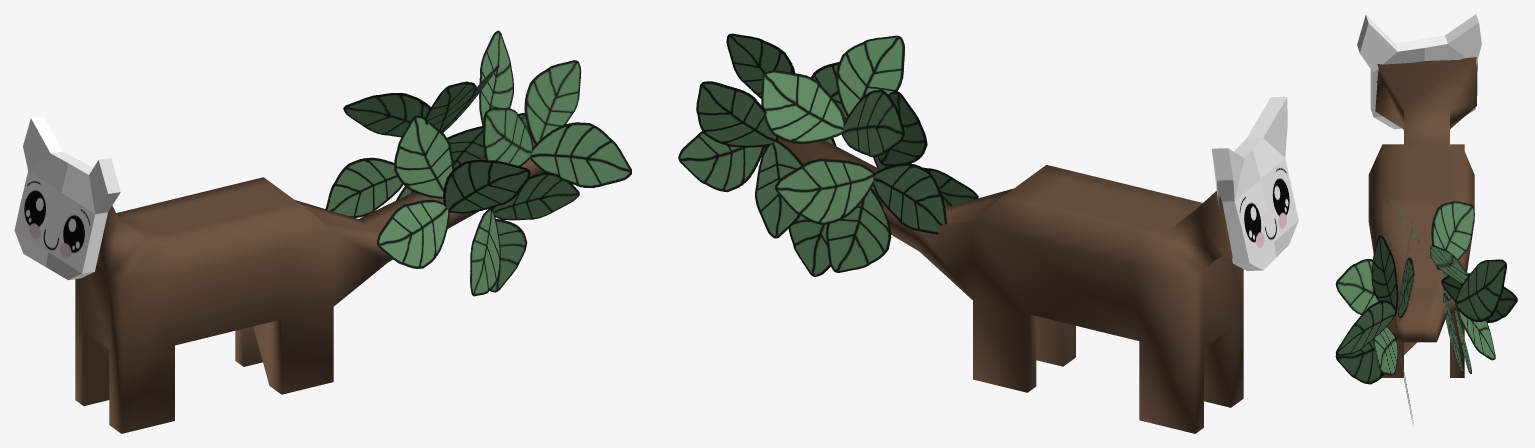
The model's file is ystävä.fbx.
The picture shows the model from 3 angles, left to right: view 1: azimuth 30°, elevation 25°; view 2: azimuth 150°, elevation 25°; view 3: azimuth 270°, elevation 25°; orthographic projection. The views are drawn at different scales.
Parts seen in each view (by area): view 1: ystävä; view 2: ystävä; view 3: ystävä.
Part boxes in pixels (left/top/right/bottom): ystävä: left=14, top=30, right=631, bottom=433; ystävä: left=678, top=33, right=1298, bottom=433; ystävä: left=1335, top=14, right=1517, bottom=422.
Bounding box in the file's own units: 571 × 280 × 191.
Materials: 20 (19 with a texture image).
